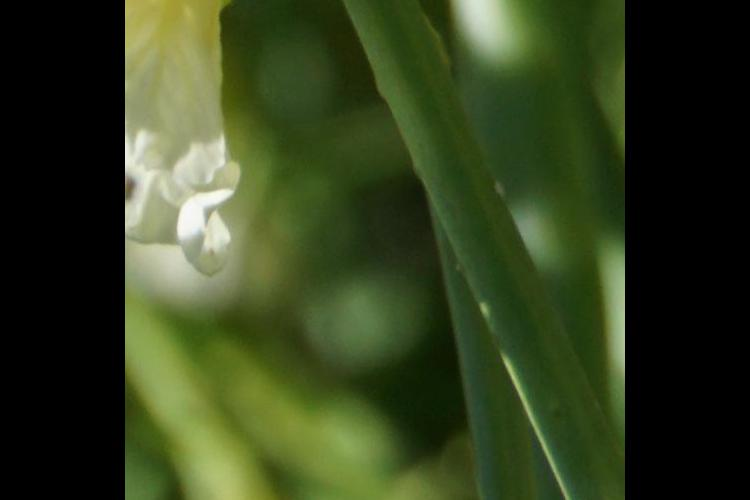white: (136, 1, 276, 264)
